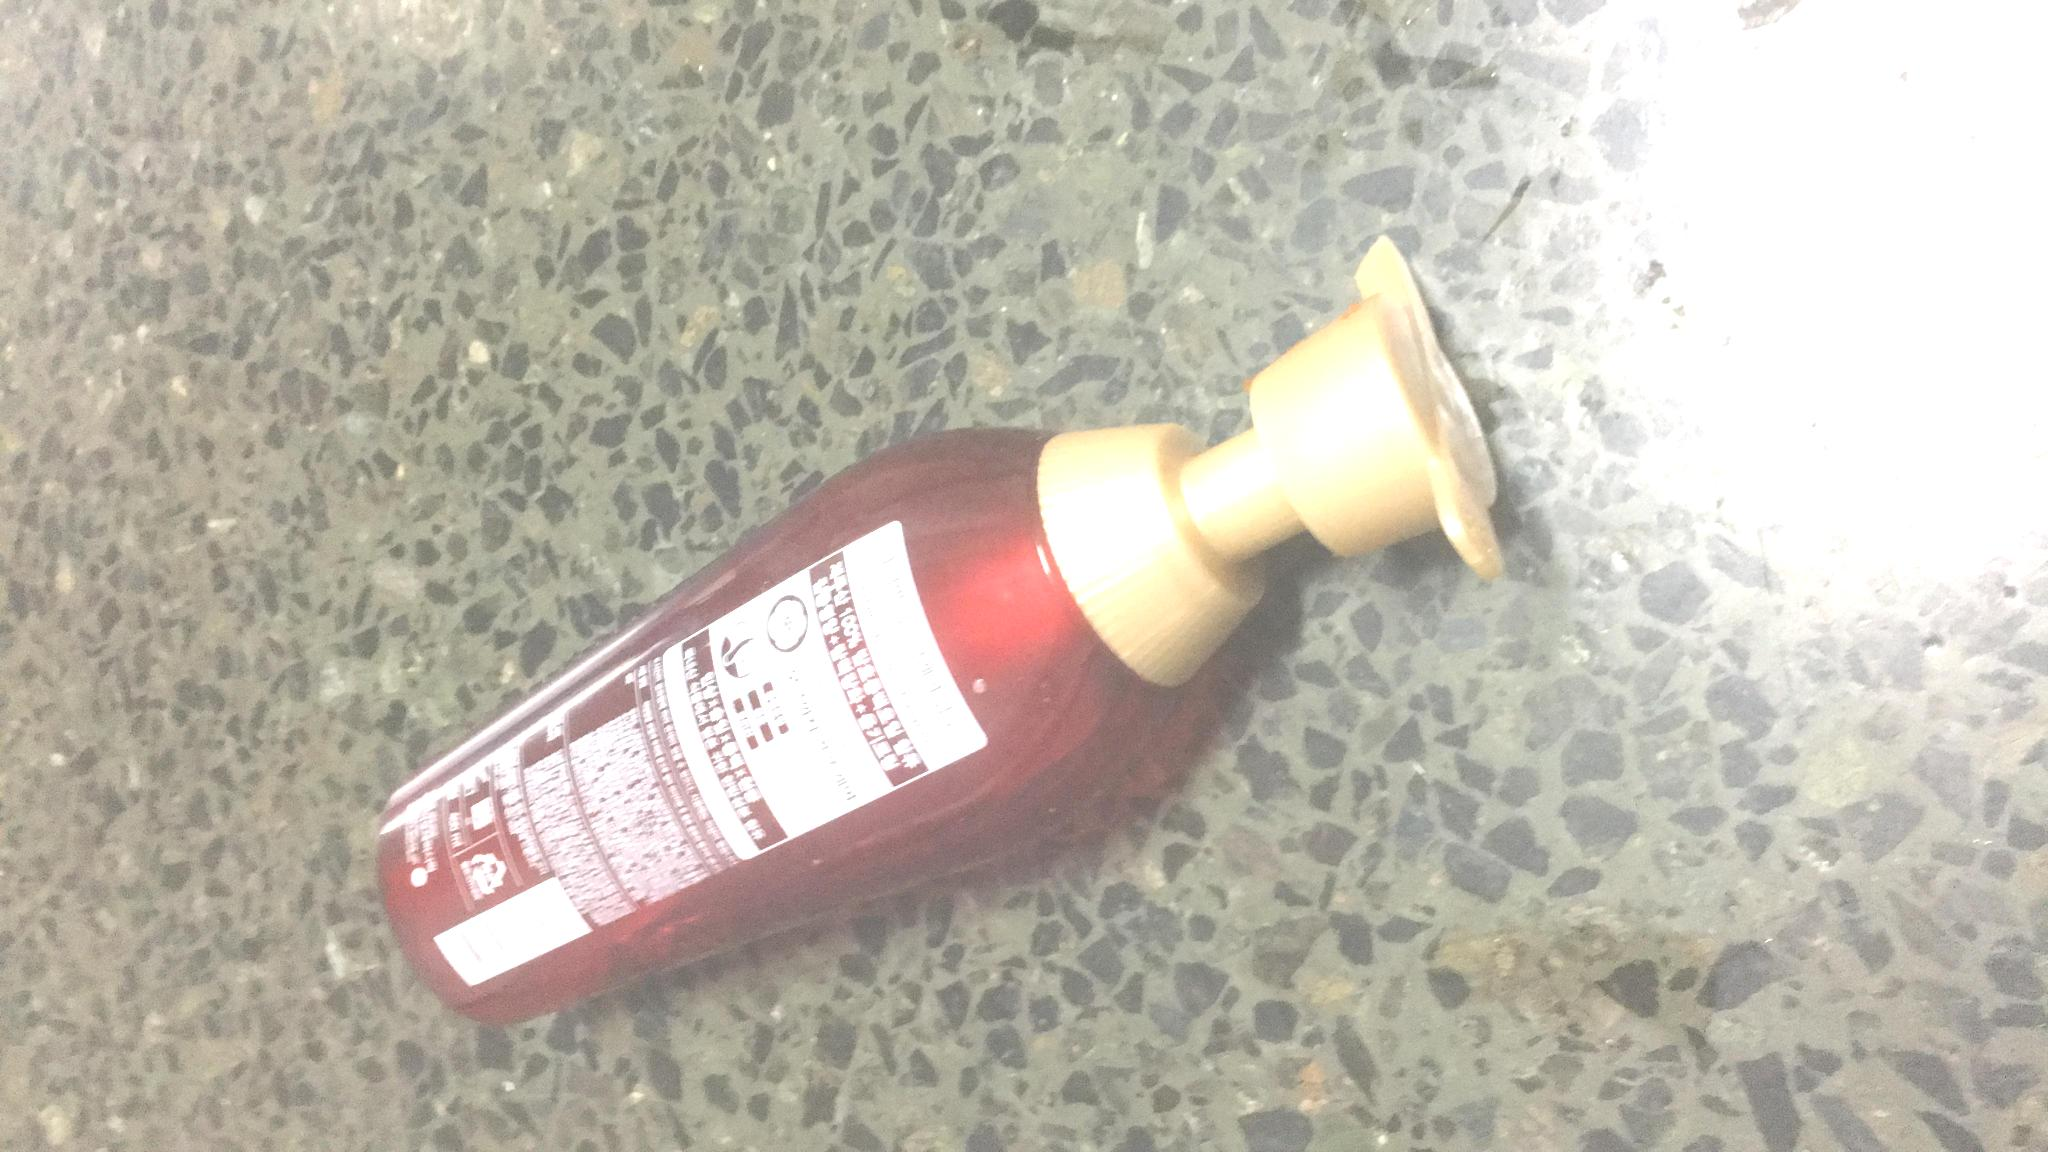bottle: (354, 232, 1506, 1050)
